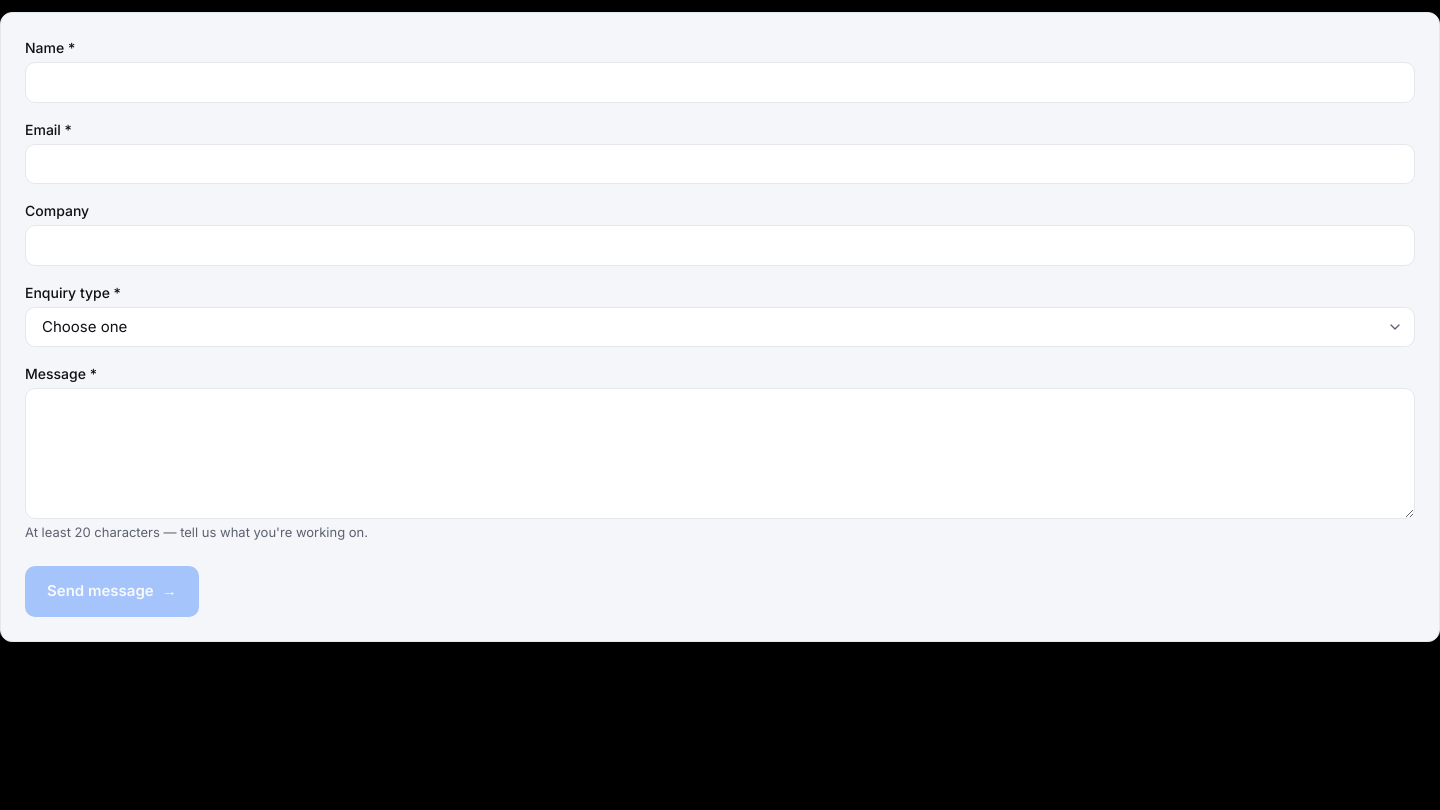
Test: ContactForm › submit button is disabled until required fields filled
Expected: the button "Send message →" is disabled, [25,566,199,616]
Type "Jane Doe" into the field labelled "Name *" at (720, 82), box [25,62,1415,102]
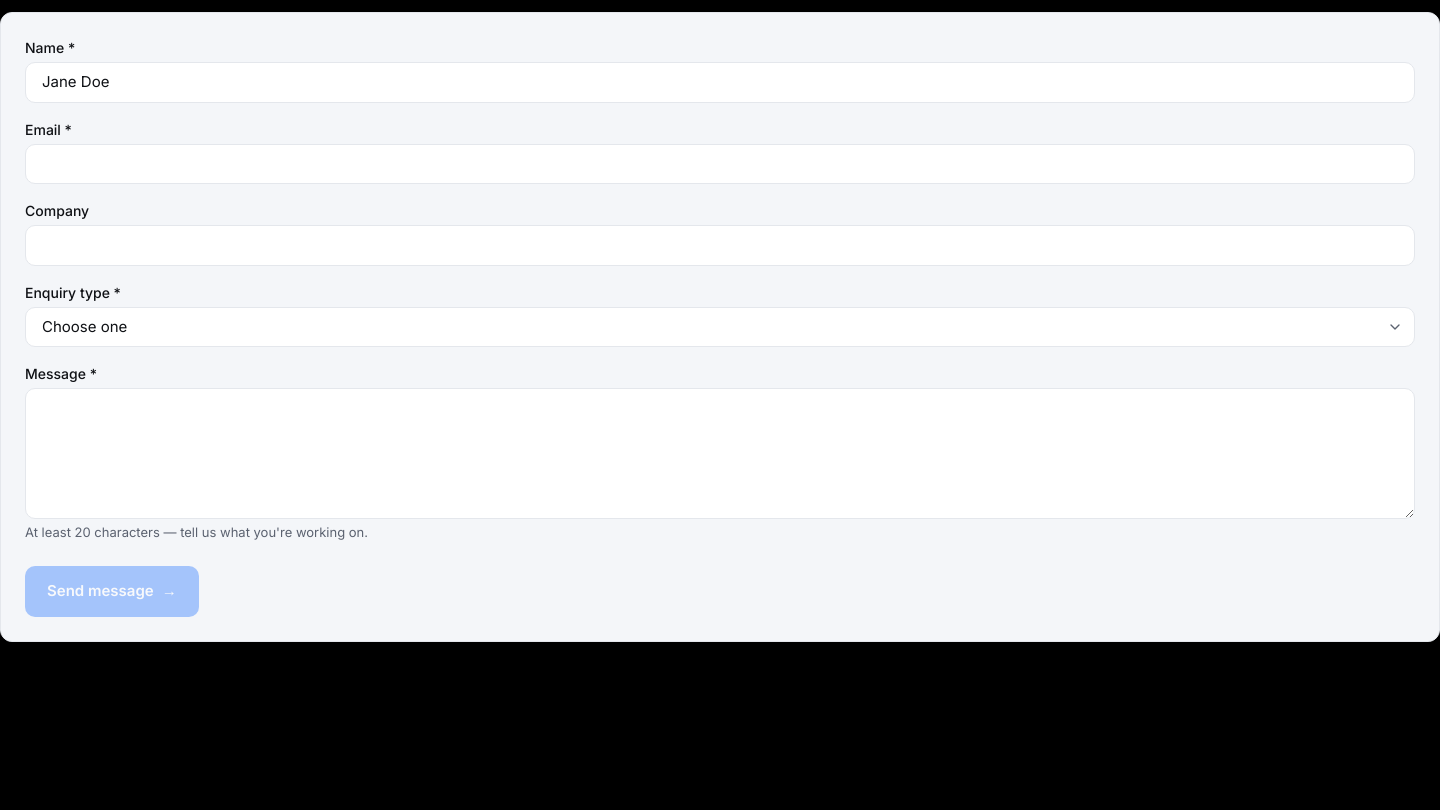
Type "jane@example.com" into the field labelled "Email *" at (720, 164), box [25,144,1415,184]
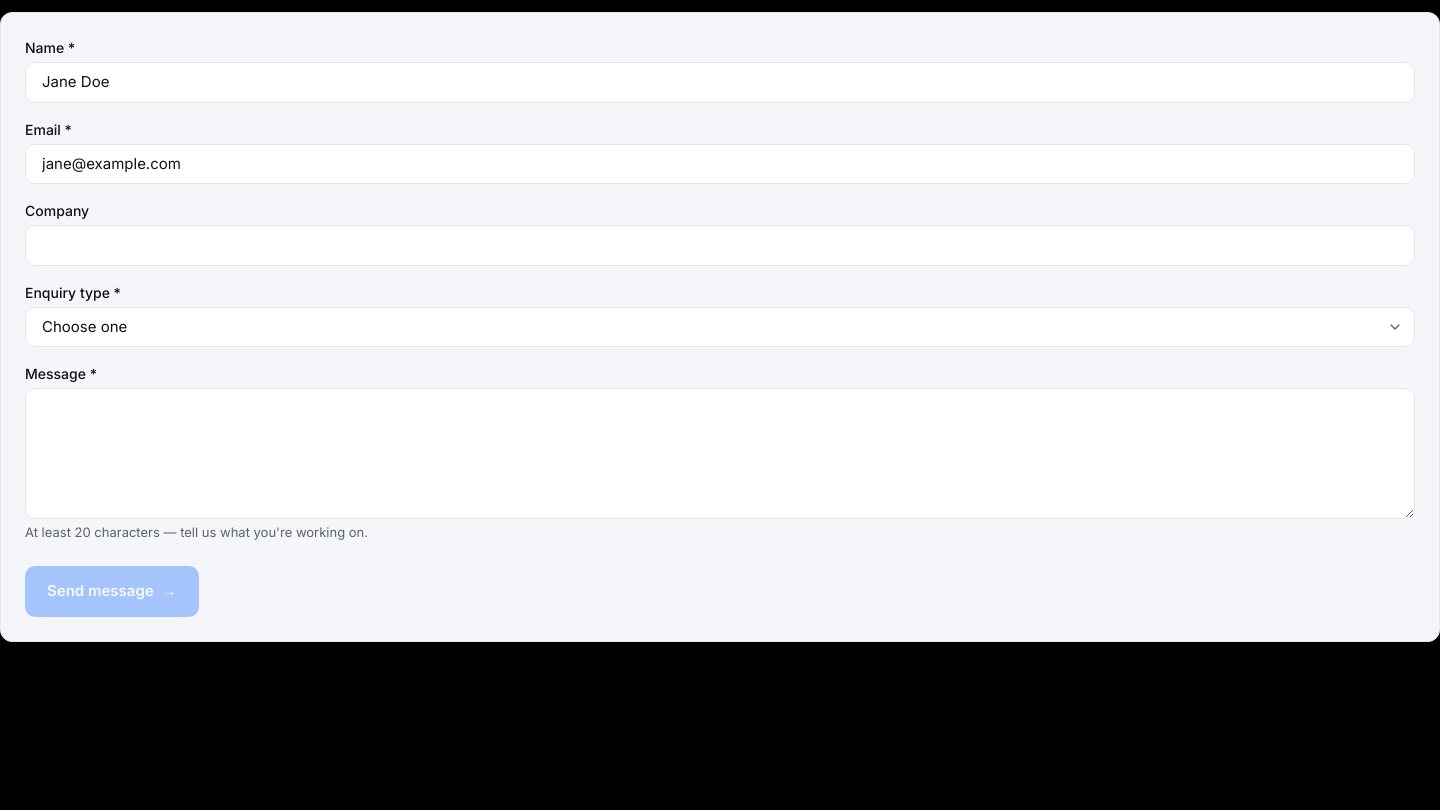
Select "Workshop inquiry" in the dropdown labelled "Enquiry type *" at (720, 327), box [25,306,1415,347]
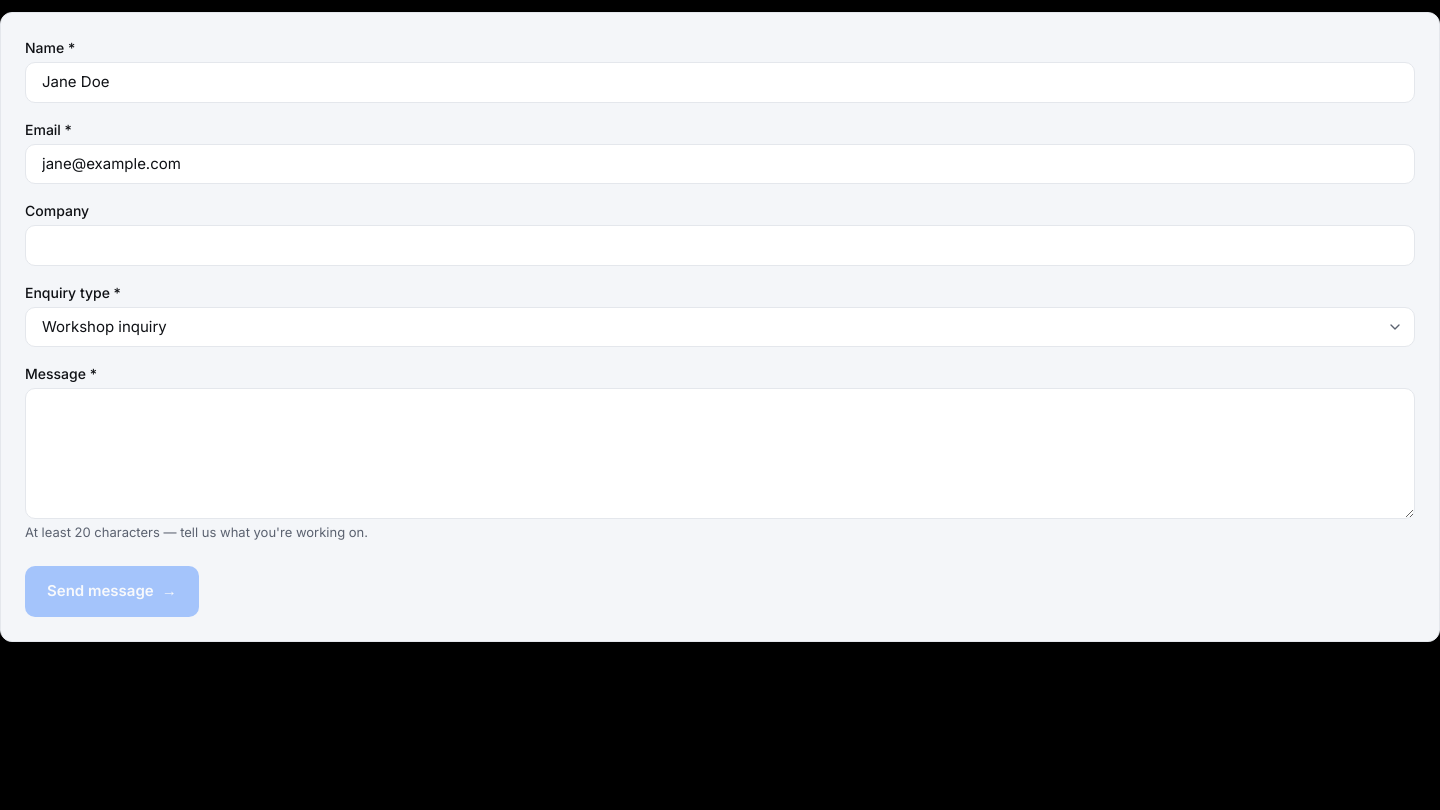
Type "This is at least twenty characters of message content." into the text box labelled "Message *" at (720, 453), box [25,388,1415,518]
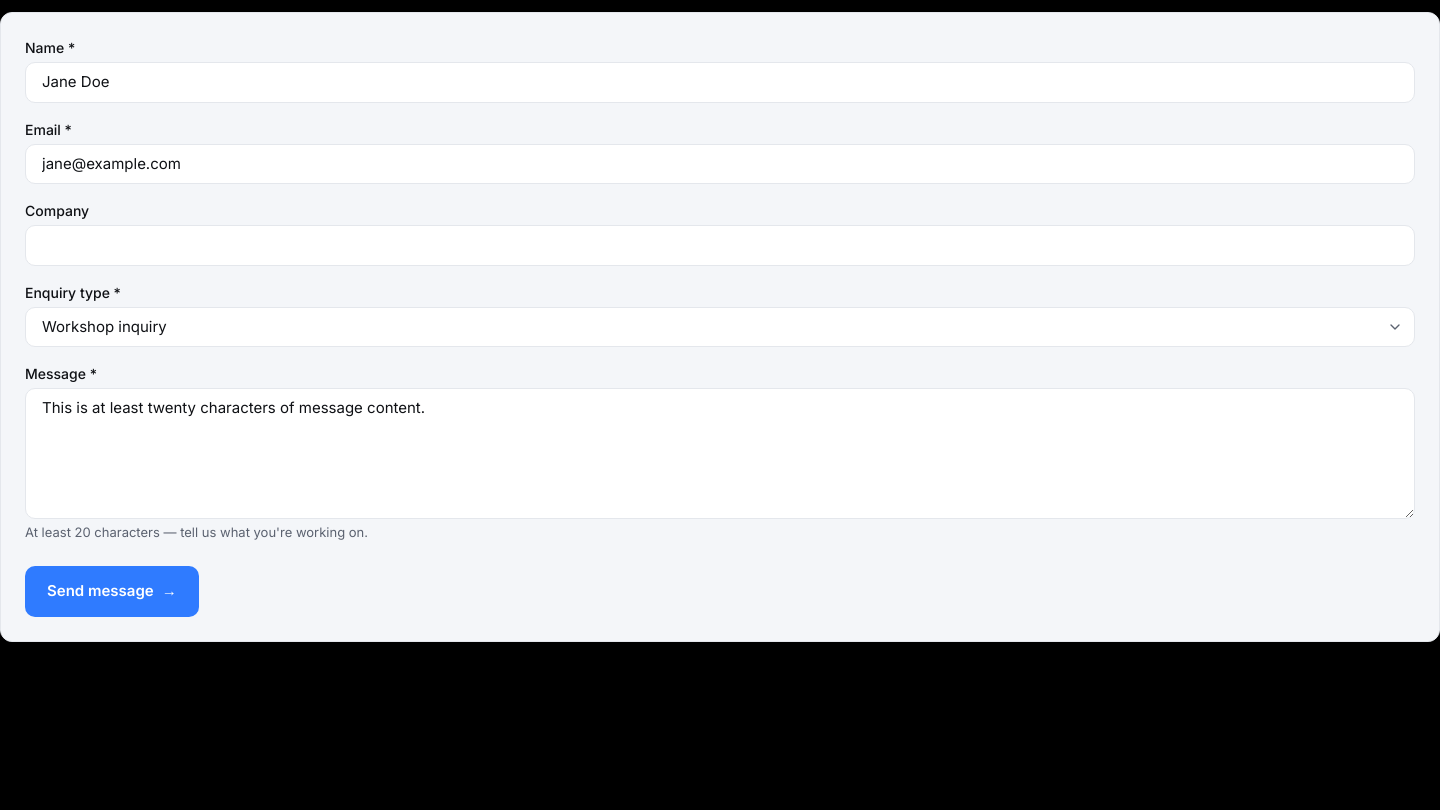
Expected: the button "Send message →" is enabled, [25,566,199,616]
